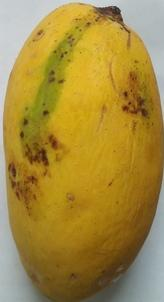Ripe: (1, 1, 164, 302)
